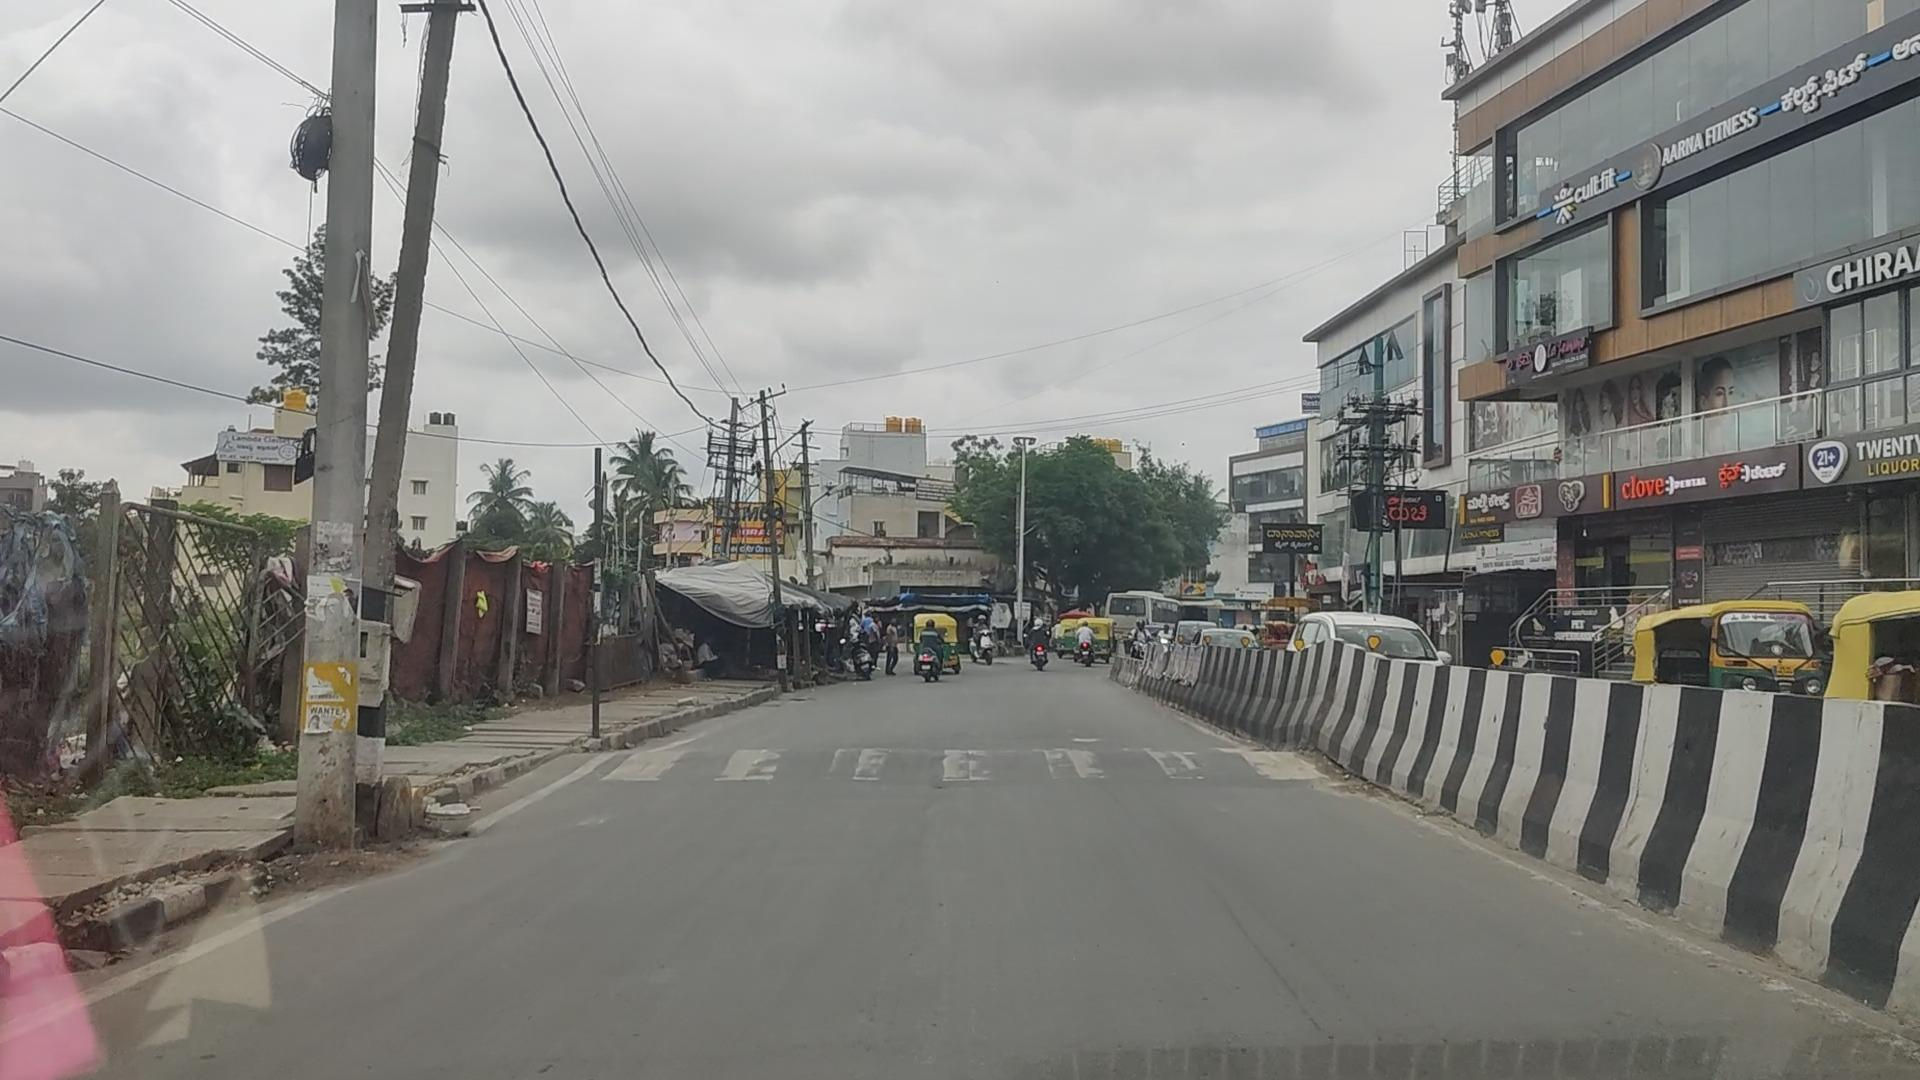SpeedBump: (591, 736, 1316, 798)
